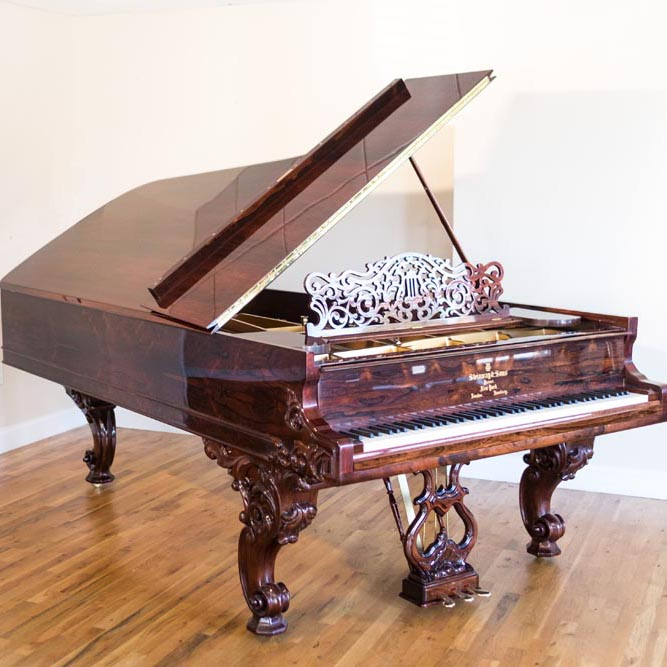GrandPiano: (1, 175, 667, 487)
